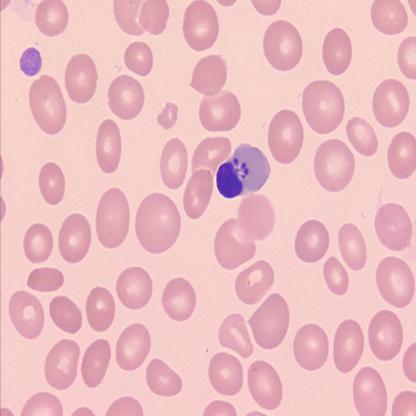NRC: (213, 141, 272, 199)
